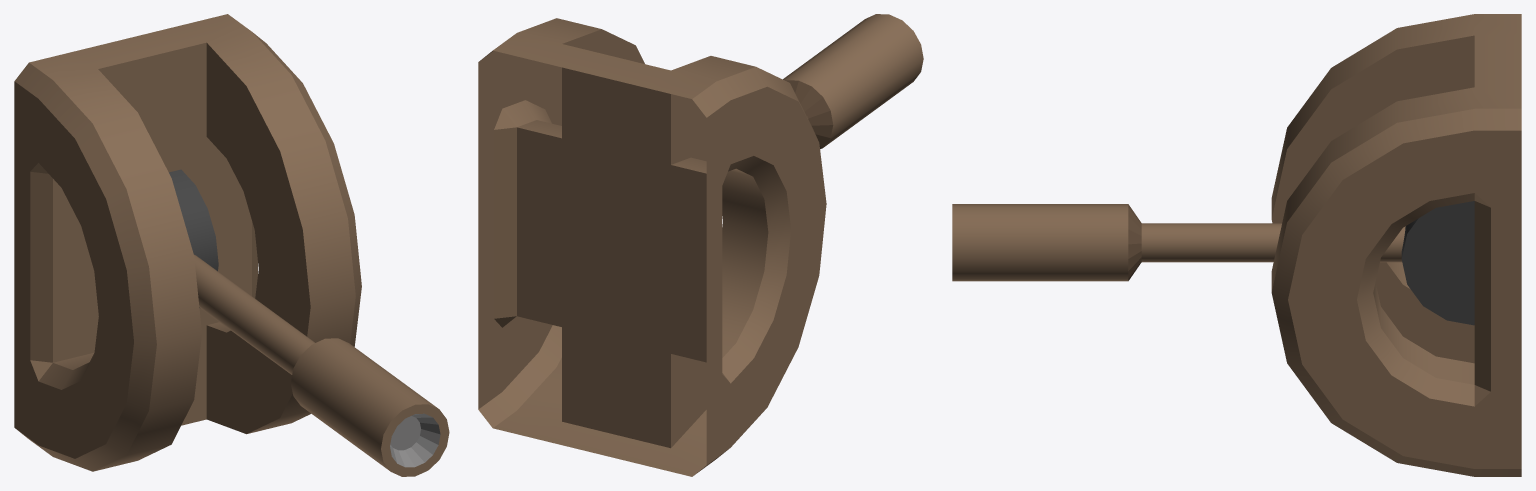
Rendered from lever.fbx.
3 views of the same model, side by side, from view 1: azimuth 30°, elevation 25°; view 2: azimuth 150°, elevation 25°; view 3: azimuth 270°, elevation 25° (orthographic). The views are drawn at different scales.
Parts seen in each view (by area): view 1: Cylinder003, Cylinder005; view 2: Cylinder003, Cylinder005; view 3: Cylinder003, Cylinder005.
Part boxes in pixels (x1,y1,x2,y2): Cylinder003: (14,14,361,471); Cylinder005: (194,254,449,476); Cylinder003: (478,18,826,476); Cylinder005: (604,14,923,264); Cylinder003: (1271,14,1521,476); Cylinder005: (952,204,1405,281).
Bounding box in the file's own units: 2.93 × 4.63 × 6.48.
